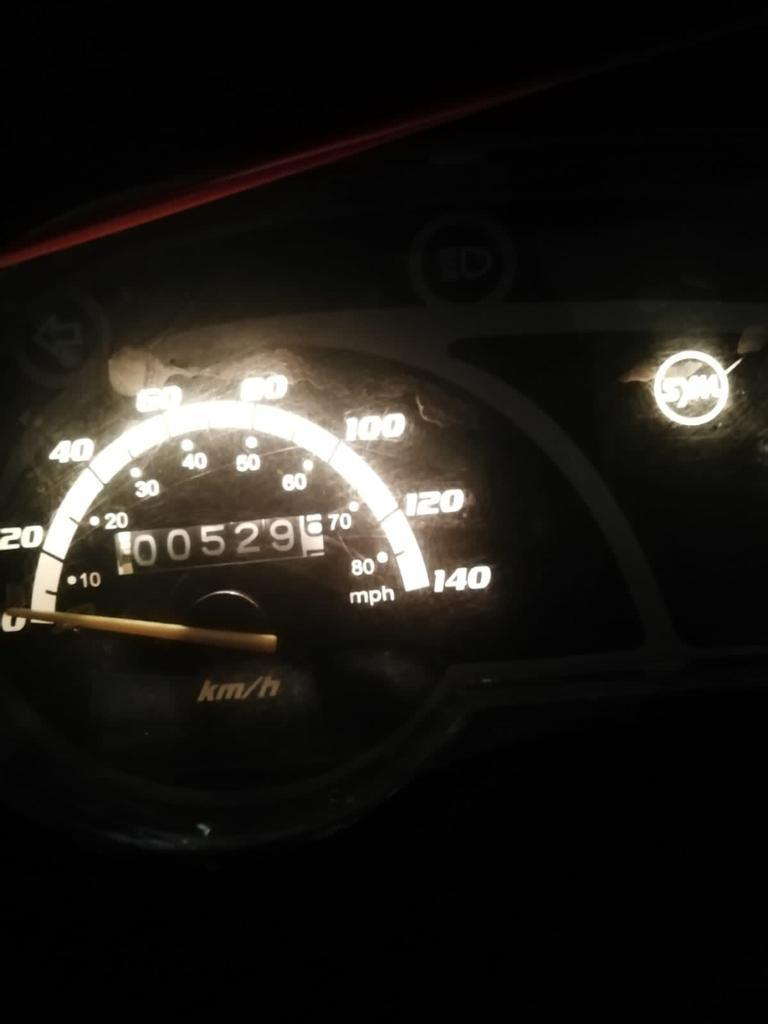0: (165, 527, 191, 562), (132, 533, 157, 567), (116, 511, 128, 529)
2: (233, 521, 261, 553), (103, 512, 117, 529)
5: (199, 523, 226, 556)
6: (303, 510, 324, 537)
9: (268, 518, 294, 553)
odometer: (110, 511, 327, 578)
